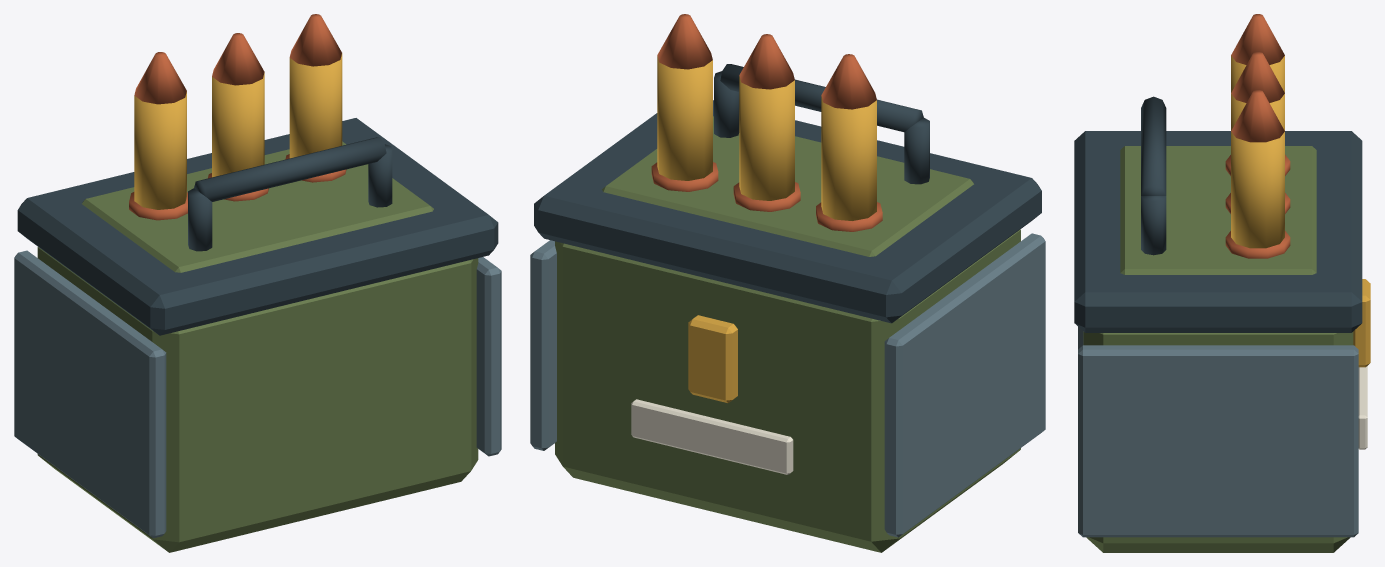
The model's file is AmmoBox.glb.
The picture shows the model from 3 angles, left to right: view 1: azimuth 30°, elevation 25°; view 2: azimuth 150°, elevation 25°; view 3: azimuth 270°, elevation 25°; orthographic projection. The views are drawn at different scales.
Visible parts, largest first — view 1: AmmoBox; view 2: AmmoBox; view 3: AmmoBox.
Part boxes in pixels (x1,y1,x2,y2): AmmoBox: (14,14,501,552); AmmoBox: (530,14,1045,552); AmmoBox: (1074,14,1370,552).
Size of the model in its own units: 0.227 by 0.262 by 0.1645.
